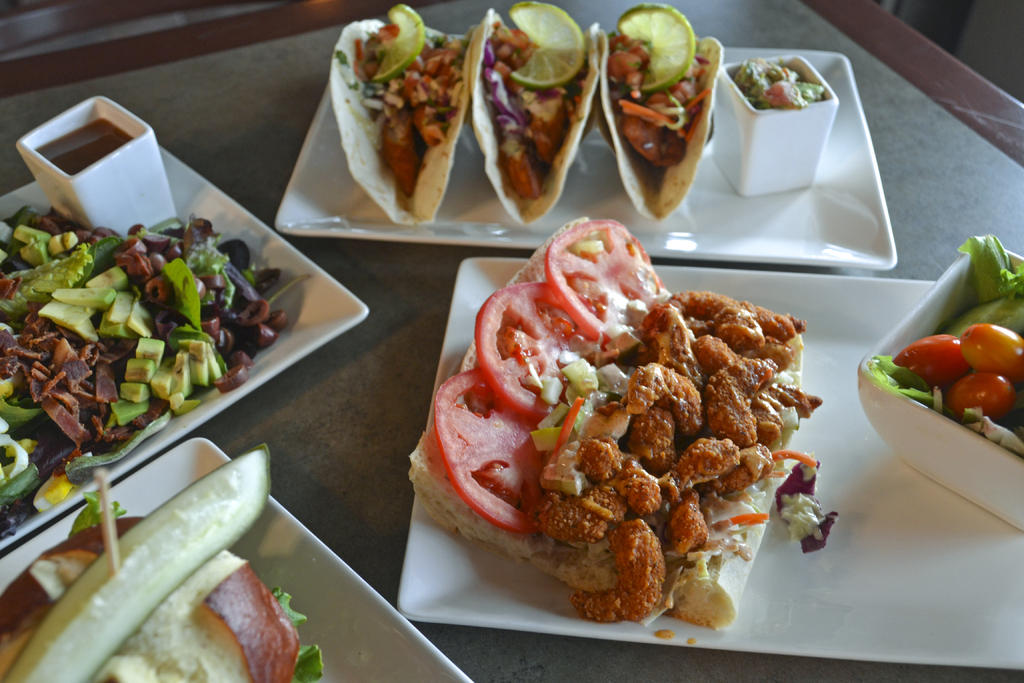taco: (322, 14, 499, 236), (588, 20, 723, 223), (465, 22, 598, 226)
